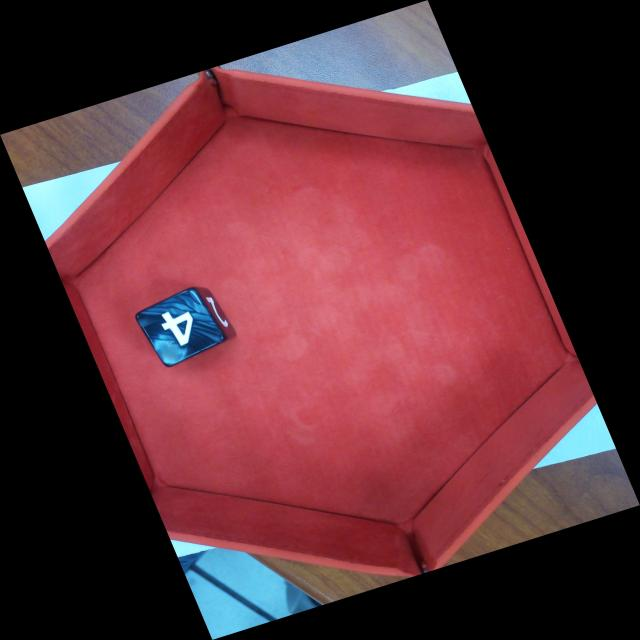dice: (135, 288, 225, 368)
